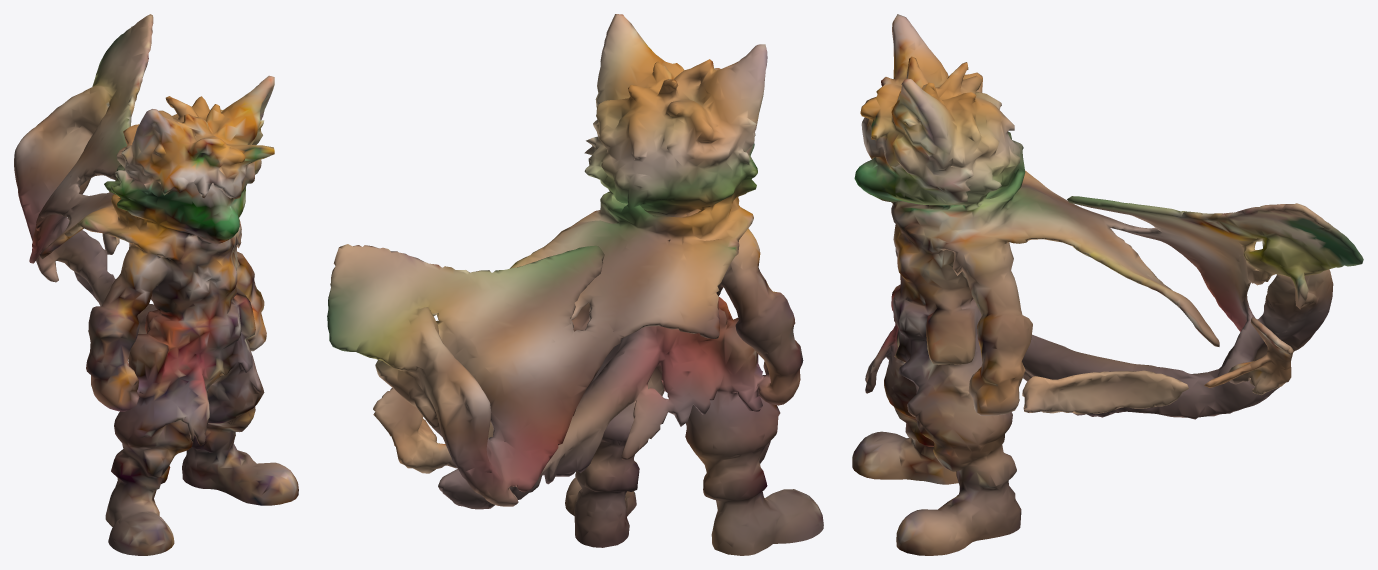
The model's file is zotik_test.glb.
3 views of the same model, side by side, from view 1: azimuth 30°, elevation 25°; view 2: azimuth 150°, elevation 25°; view 3: azimuth 270°, elevation 25° (orthographic). The views are drawn at different scales.
Visible parts, largest first — view 1: geometry_0; view 2: geometry_0; view 3: geometry_0.
Part boxes in pixels (bbox=[...]): geometry_0: bbox=[14, 14, 298, 555]; geometry_0: bbox=[327, 14, 823, 555]; geometry_0: bbox=[852, 14, 1363, 555].
Bounding box in the file's own units: 0.5778 × 1 × 1.01.
